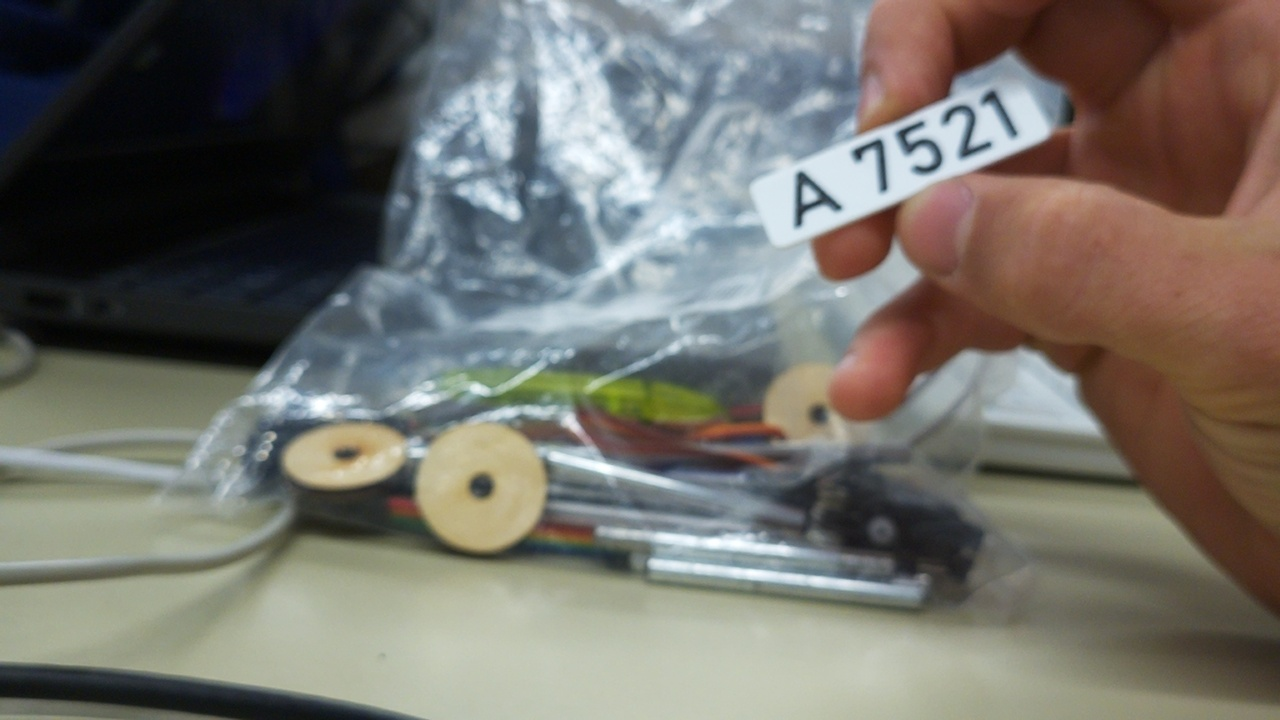license_plate: (744, 71, 1057, 253)
